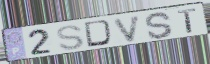2: (27, 27, 56, 58)
D: (83, 19, 116, 49)
S: (144, 11, 174, 40), (55, 24, 86, 51)
T: (176, 8, 199, 35)
V: (113, 14, 144, 44)
